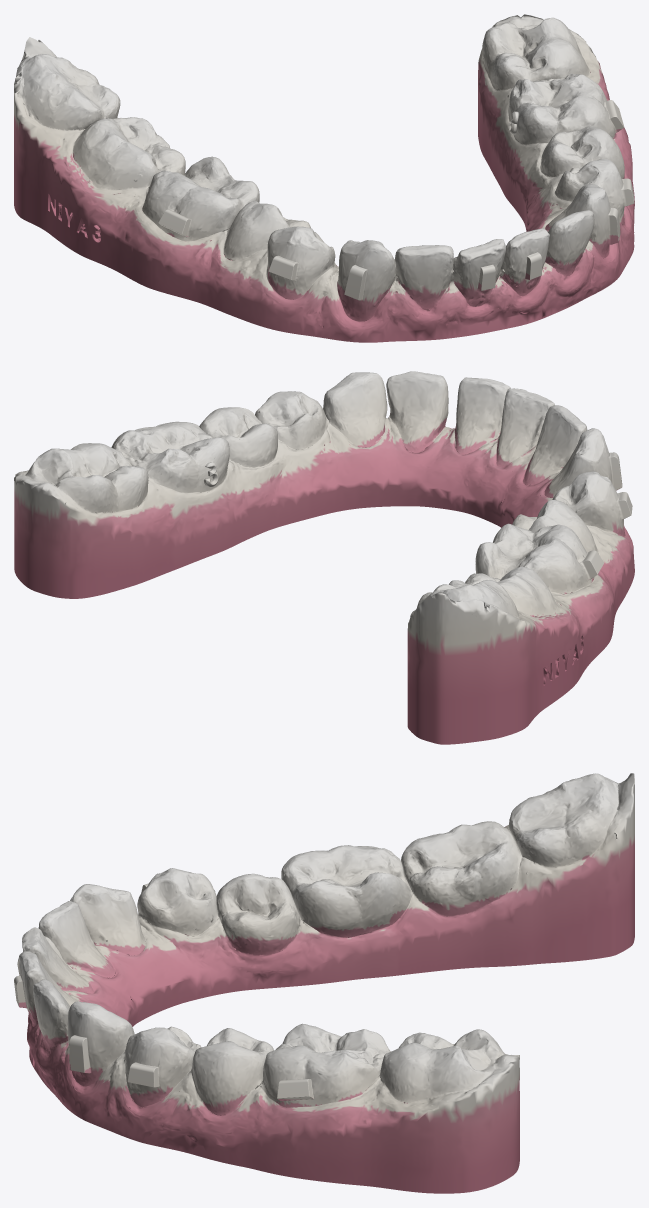
File: Niya Priority Lower jaw - 03 - Model.glb
3 renders of one model, top to bottom at view 1: azimuth 30°, elevation 25°; view 2: azimuth 150°, elevation 25°; view 3: azimuth 270°, elevation 25°, orthographic. The views are drawn at different scales.
Visible parts, largest first — view 1: Niya Priority Lower jaw - 03 - Model; view 2: Niya Priority Lower jaw - 03 - Model; view 3: Niya Priority Lower jaw - 03 - Model.
Boxes of the visible parts, x1,y1,x2,y2 form: Niya Priority Lower jaw - 03 - Model: [14, 14, 634, 342]; Niya Priority Lower jaw - 03 - Model: [14, 371, 634, 744]; Niya Priority Lower jaw - 03 - Model: [14, 773, 634, 1193].
Size of the model in its own units: 62.72 by 16.53 by 57.97.
